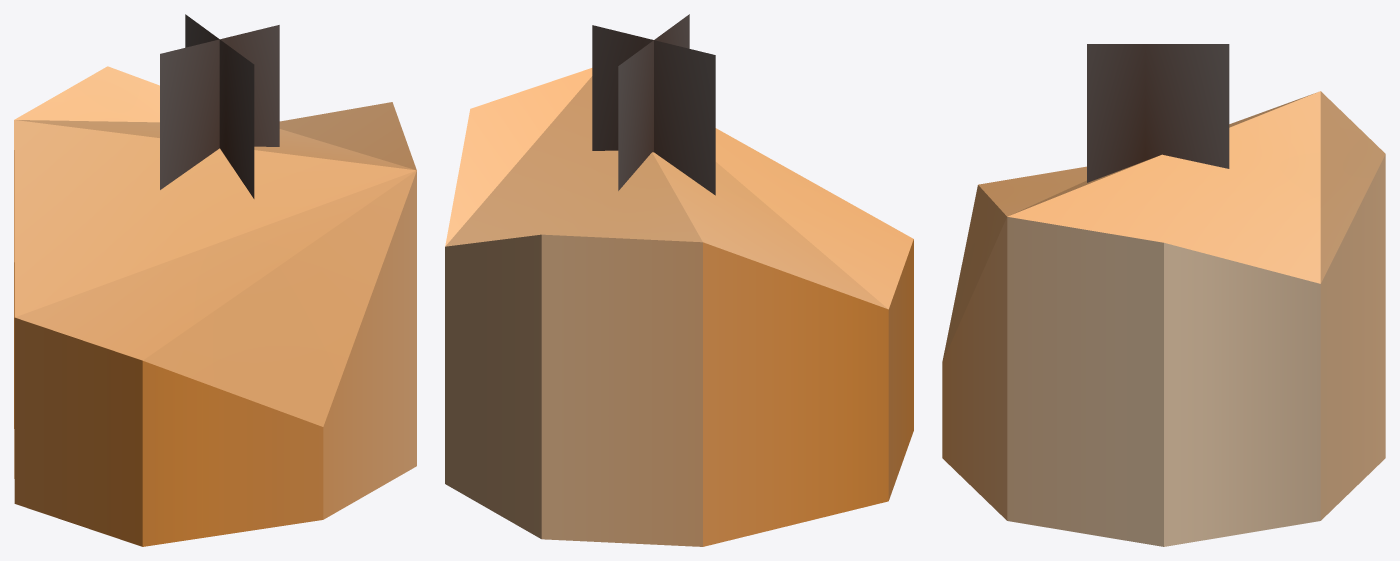
Rendered from spent_light_997x01.obj.
The picture shows the model from 3 angles, left to right: view 1: azimuth 30°, elevation 25°; view 2: azimuth 150°, elevation 25°; view 3: azimuth 270°, elevation 25°; orthographic projection. The views are drawn at different scales.
Parts seen in each view (by area): view 1: spent_light_997x01; view 2: spent_light_997x01; view 3: spent_light_997x01.
Part boxes in pixels (box(x1,y1,x2,y2)): spent_light_997x01: box(14, 14, 416, 546); spent_light_997x01: box(445, 14, 913, 546); spent_light_997x01: box(942, 44, 1385, 546).
Bounding box in the file's own units: 0.156 × 0.1534 × 0.1487.
